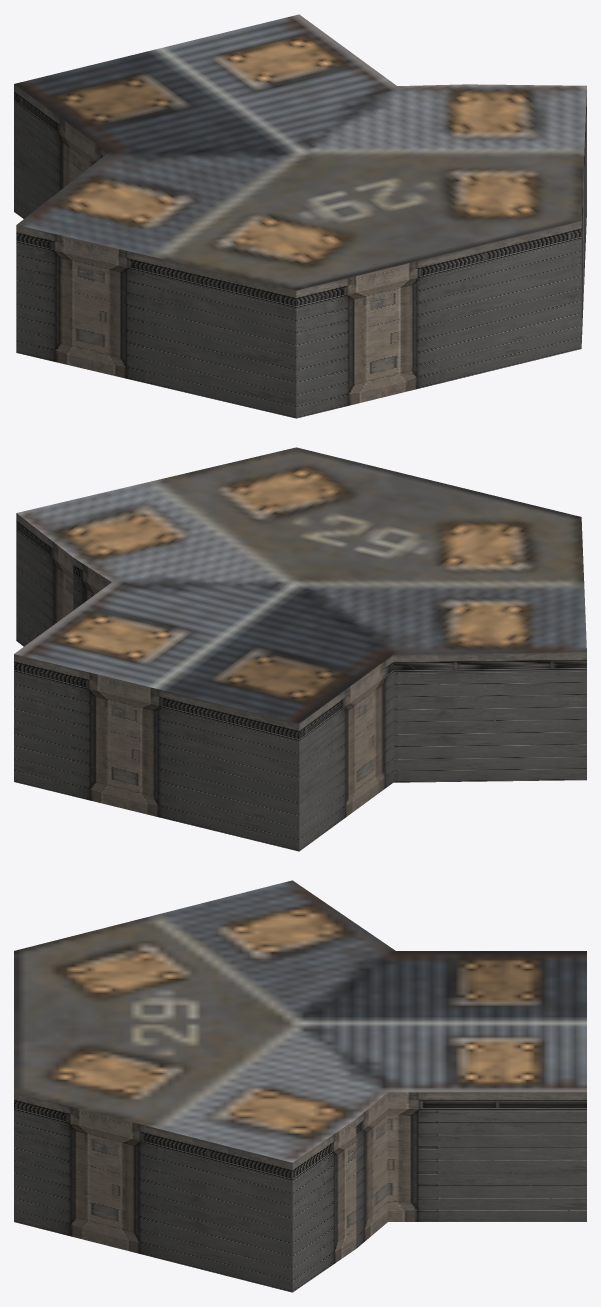
File: hangar_light_a_29.glb
3 views of the same model, one above another, from view 1: azimuth 30°, elevation 25°; view 2: azimuth 150°, elevation 25°; view 3: azimuth 270°, elevation 25° (orthographic).
Parts seen in each view (by area): view 1: buildings/saxarba/hangar_light/hangar_light_a_29; view 2: buildings/saxarba/hangar_light/hangar_light_a_29; view 3: buildings/saxarba/hangar_light/hangar_light_a_29.
Boxes of the visible parts, box(x1,y1,x2,y2) form: buildings/saxarba/hangar_light/hangar_light_a_29: box(14, 14, 586, 418); buildings/saxarba/hangar_light/hangar_light_a_29: box(14, 447, 586, 851); buildings/saxarba/hangar_light/hangar_light_a_29: box(14, 880, 586, 1292).
Bounding box in the file's own units: 84 × 18 × 72.
